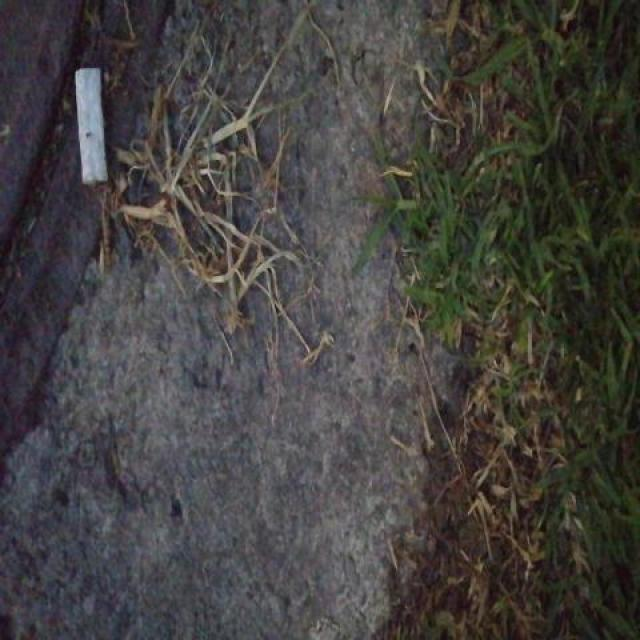non-organic waste: (68, 63, 112, 190)
